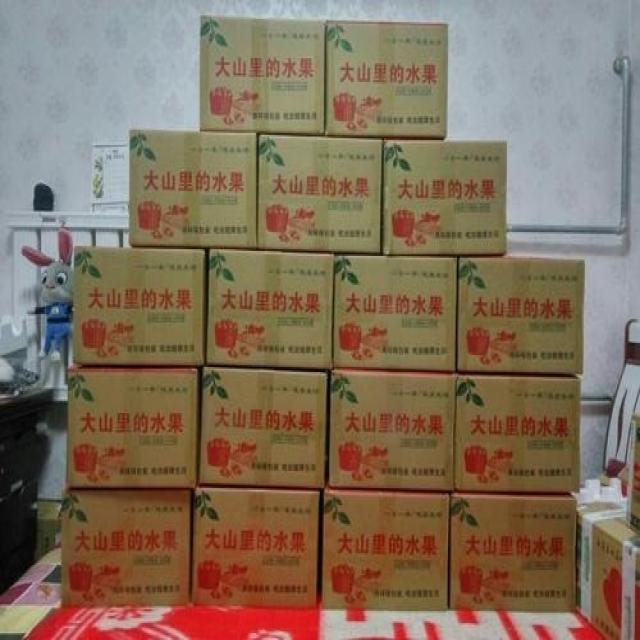box: (65, 367, 200, 490), (72, 246, 207, 365), (321, 486, 449, 609), (329, 370, 457, 492), (206, 249, 335, 370), (192, 488, 320, 609), (63, 488, 192, 608), (454, 372, 581, 493), (200, 369, 328, 488), (449, 493, 577, 611), (129, 130, 257, 247), (201, 15, 325, 133), (259, 135, 383, 253), (383, 137, 507, 254), (457, 258, 582, 374), (326, 20, 448, 138), (334, 254, 457, 370), (577, 500, 640, 640)
